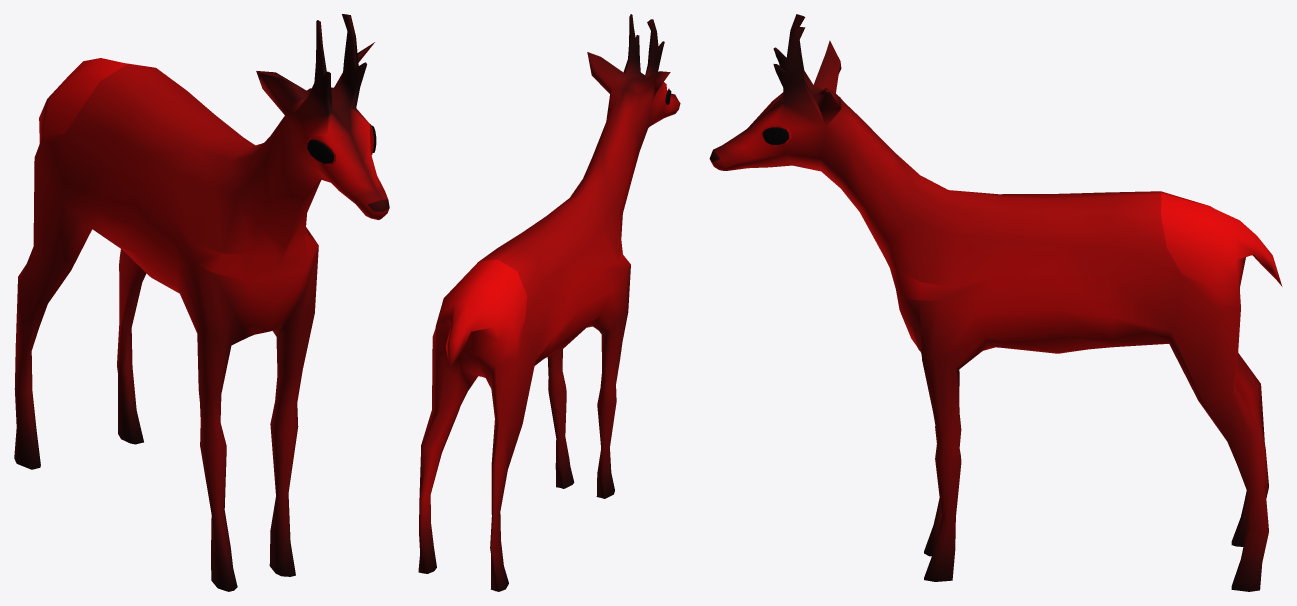
File: Animals_Pronghorn.fbx
3 views of the same model, side by side, from view 1: azimuth 30°, elevation 25°; view 2: azimuth 150°, elevation 25°; view 3: azimuth 270°, elevation 25° (orthographic). The views are drawn at different scales.
Visible parts, largest first — view 1: base; view 2: base; view 3: base.
Boxes of the visible parts, x1=… form: base: x1=14, y1=14, x2=389, y2=591; base: x1=418, y1=14, x2=680, y2=591; base: x1=709, y1=14, x2=1282, y2=591.
Size of the model in its own units: 36.11 by 174 by 166.
